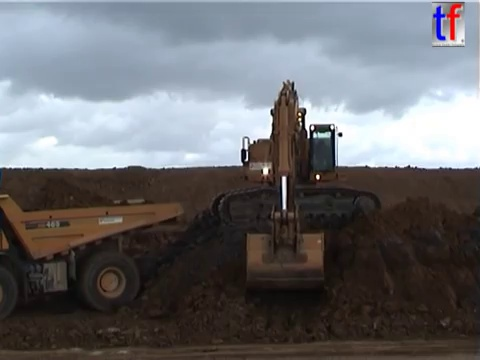excavator: (206, 76, 384, 294)
truck: (1, 190, 186, 321)
